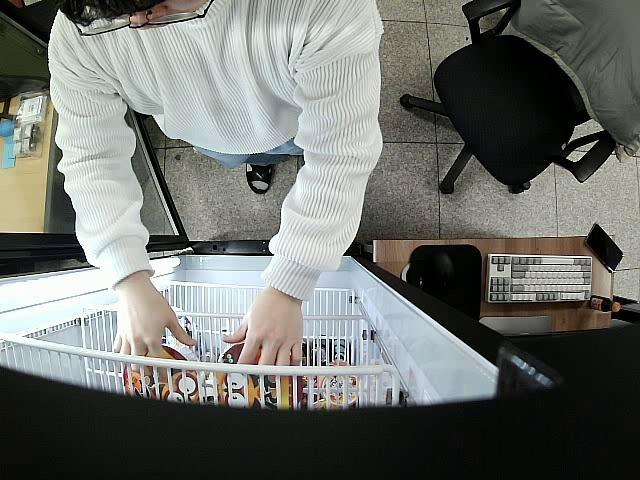05_nuguri_L: (214, 342, 305, 408), (124, 346, 206, 406)
